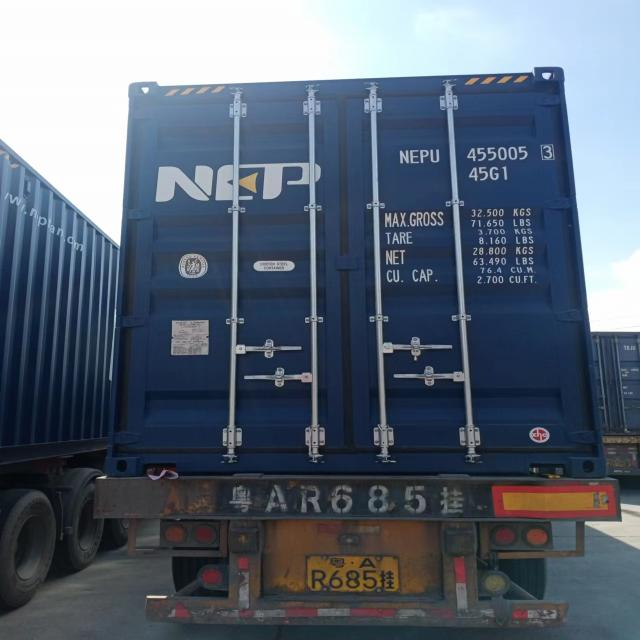seal: (412, 343, 422, 362)
